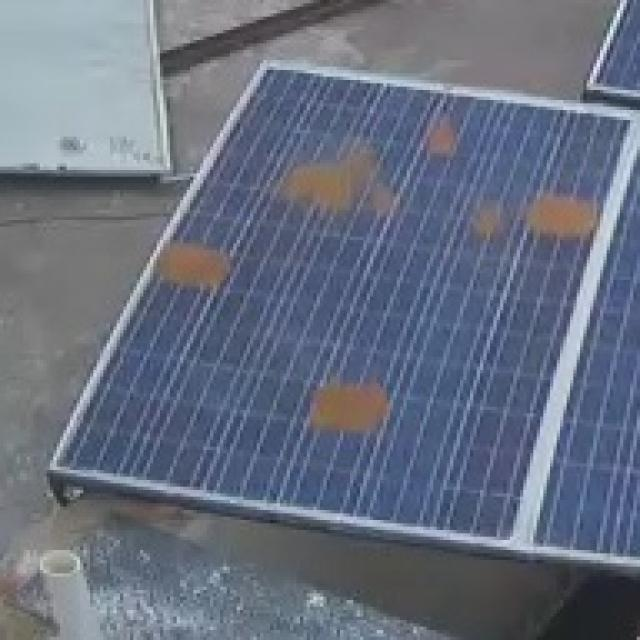Anomaly Solar Panel: (53, 63, 638, 548)
Surface Contaminant: (270, 133, 408, 223), (301, 374, 401, 437), (146, 235, 240, 297), (524, 179, 594, 240), (424, 109, 460, 167), (469, 200, 514, 239)
